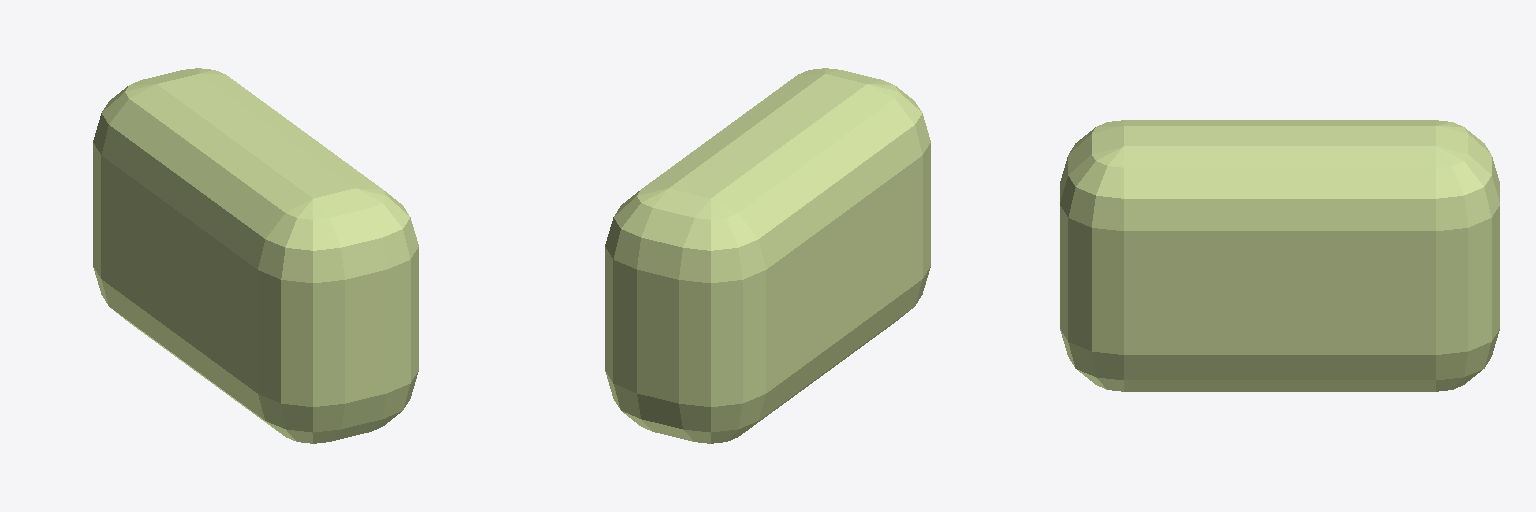
The model's file is soap.obj.
3 views of the same model, side by side, from view 1: azimuth 30°, elevation 25°; view 2: azimuth 150°, elevation 25°; view 3: azimuth 270°, elevation 25° (orthographic).
Parts seen in each view (by area): view 1: ChamferBox001; view 2: ChamferBox001; view 3: ChamferBox001.
Boxes of the visible parts, <box> form: ChamferBox001: <box>93,68,418,443</box>; ChamferBox001: <box>605,68,930,443</box>; ChamferBox001: <box>1060,120,1499,391</box>.
Bounding box in the file's own units: 20 × 30 × 50.